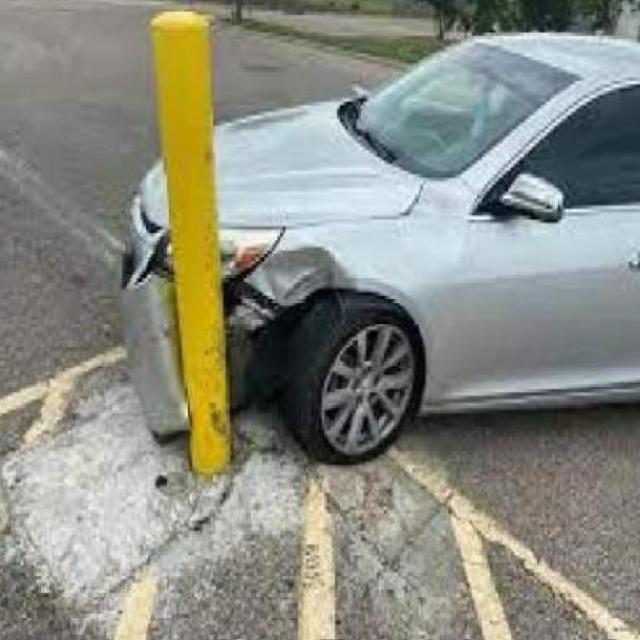accident: (118, 28, 640, 466)
